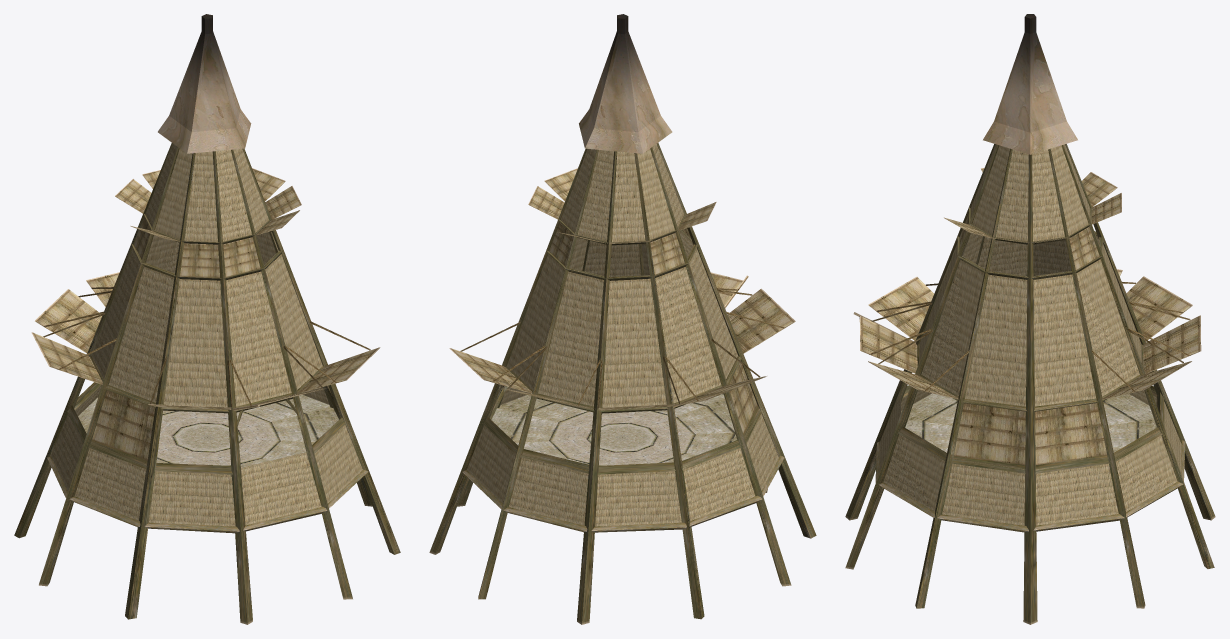
Rendered from thm_endr_lakevillage_lake_hut_l2.fbx.
3 views of the same model, side by side, from view 1: azimuth 30°, elevation 25°; view 2: azimuth 150°, elevation 25°; view 3: azimuth 270°, elevation 25° (orthographic).
Visible parts, largest first — view 1: mesh_node; view 2: mesh_node; view 3: mesh_node.
Boxes of the visible parts, left/top/right/bottom form: mesh_node: left=14, top=14, right=400, bottom=624; mesh_node: left=429, top=14, right=816, bottom=624; mesh_node: left=845, top=14, right=1215, bottom=624.
Bounding box in the file's own units: 12.96 × 19.3 × 12.31.
